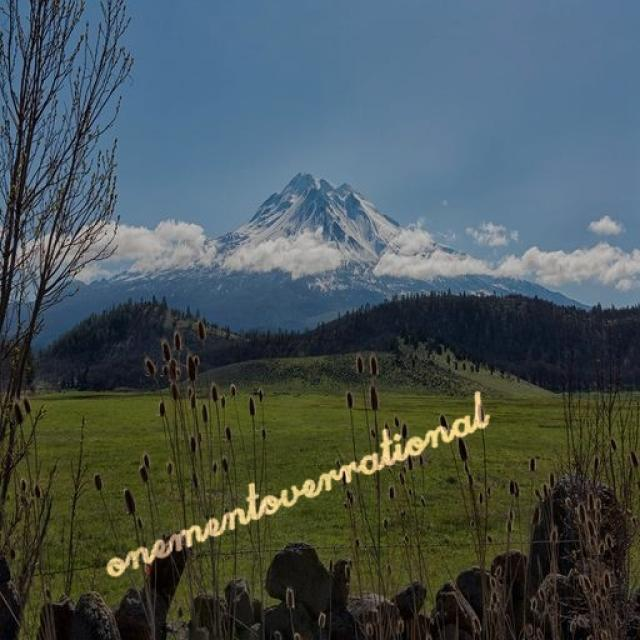watermark: (99, 387, 491, 585)
